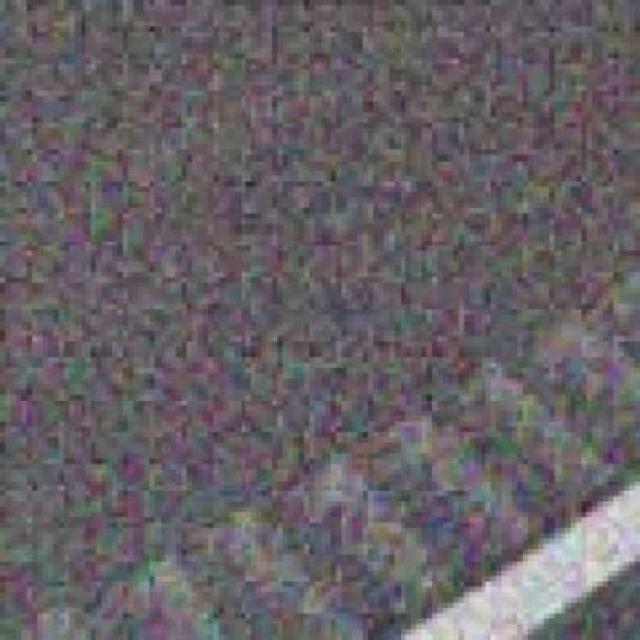crosswalk: (16, 266, 640, 640)
